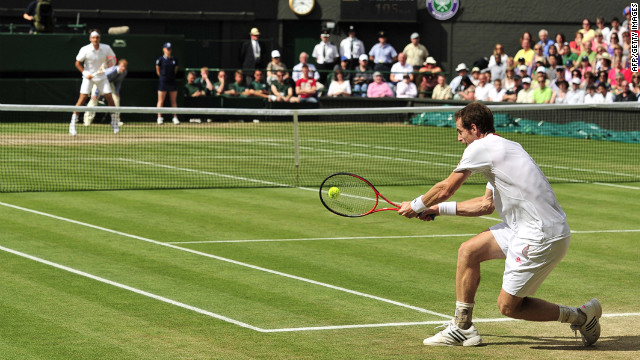tennis ball: (327, 186, 342, 201)
tennis player: (400, 101, 606, 352), (68, 31, 127, 137)
